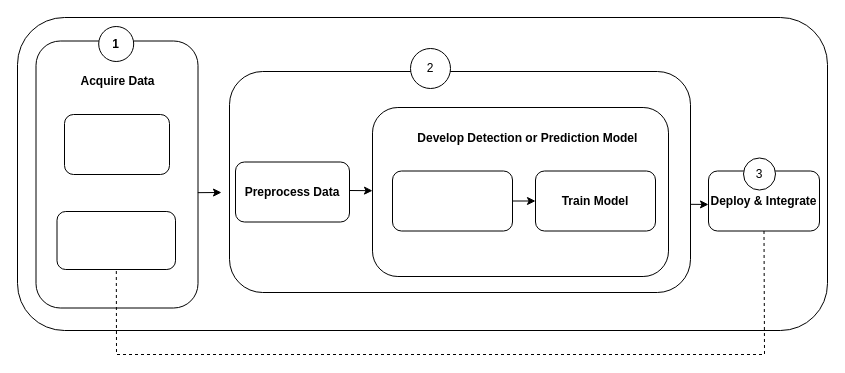
This 845x373 diagram has some shape labels left out. Each missing label, with the centre of its shape:
"Generate Data" goes at pixel 117 144.
"Identify Condition Indicators" goes at pixel 452 200.
"Sensor Data" goes at pixel 116 240.
